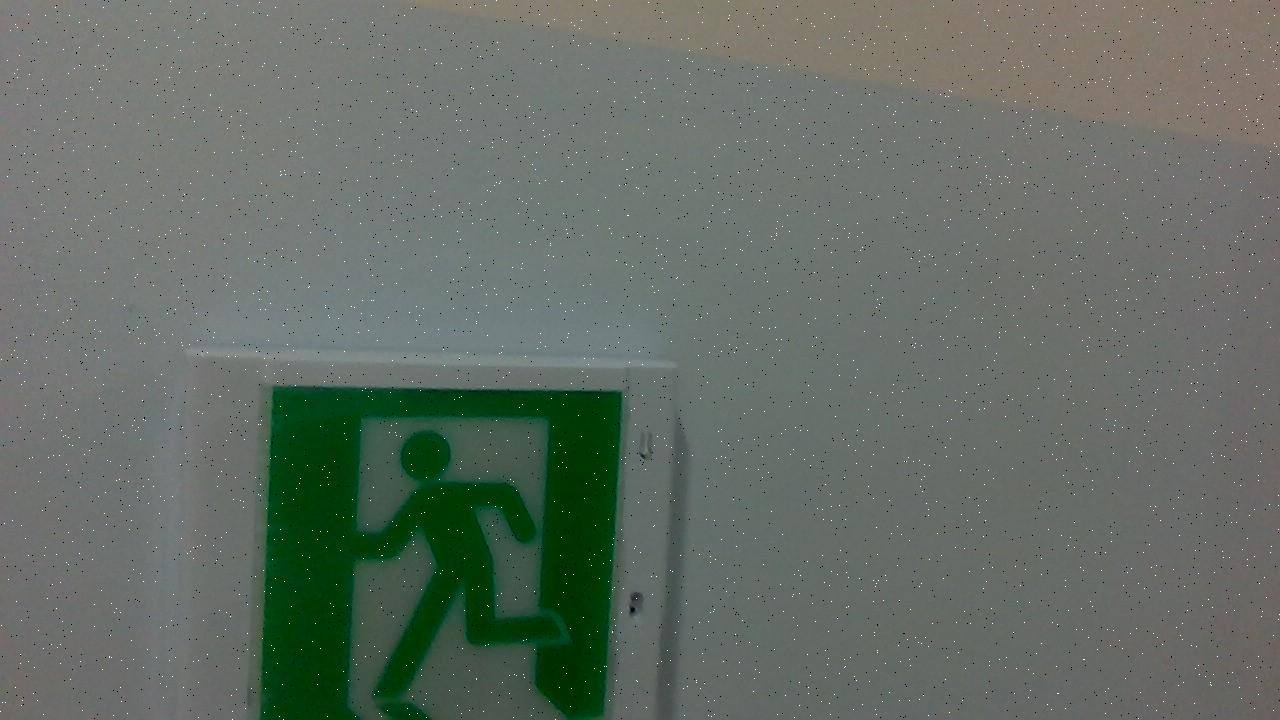emergency_exit: (193, 354, 679, 718), (259, 383, 626, 718)
